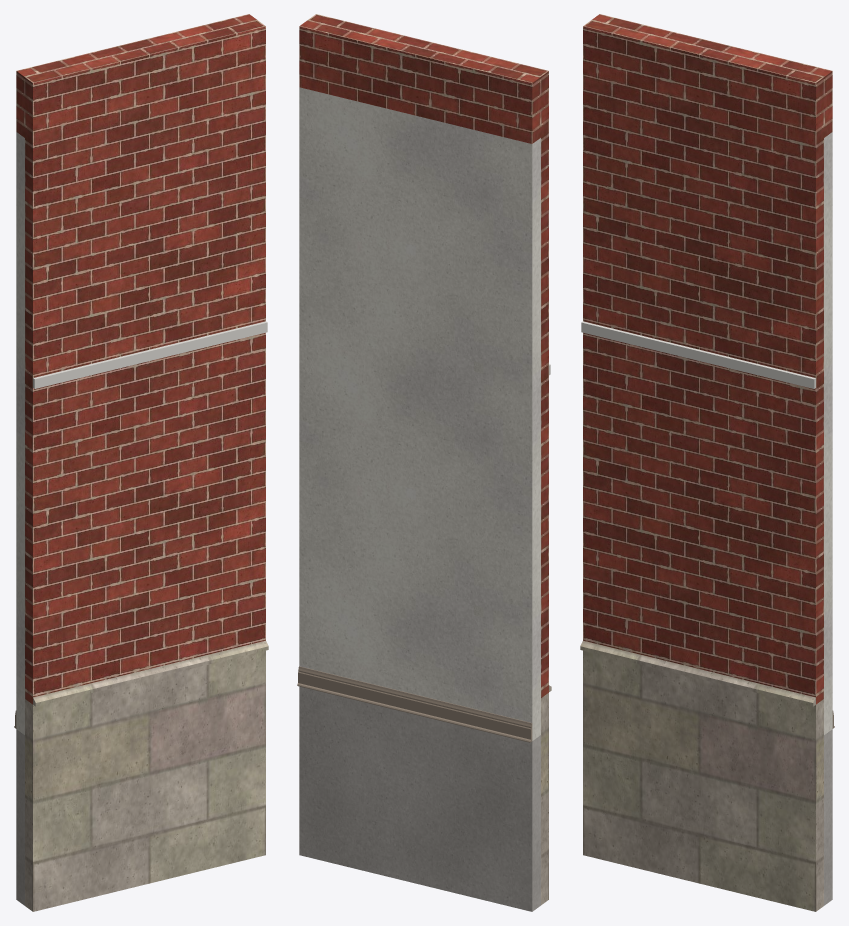
The model's file is b_plain.glb.
3 views of the same model, side by side, from view 1: azimuth 30°, elevation 25°; view 2: azimuth 150°, elevation 25°; view 3: azimuth 330°, elevation 25° (orthographic).
Visible parts, largest first — view 1: b_plain_brick, b_plain_stone, b_plain_plaster, b_plain_coping, b_plain_concrete; view 2: b_plain_plaster, b_plain_concrete, b_plain_brick, molduras, b_plain_stone; view 3: b_plain_brick, b_plain_stone, b_plain_plaster, b_plain_coping, b_plain_concrete.
Part boxes in pixels (x1,y1,x2,y2): b_plain_brick: (16,14,265,704); b_plain_stone: (25,640,268,911); b_plain_plaster: (16,132,24,734); b_plain_coping: (33,321,267,388); b_plain_concrete: (16,729,24,905); b_plain_plaster: (299,87,540,740); b_plain_concrete: (299,686,540,911); b_plain_brick: (299,14,548,697); molduras: (297,666,532,742); b_plain_stone: (541,685,551,905); b_plain_brick: (583,14,832,704); b_plain_stone: (580,640,823,911); b_plain_plaster: (824,132,832,734); b_plain_coping: (581,321,815,388); b_plain_concrete: (824,729,832,905).
Size of the model in its own units: 2 by 6.8 by 0.32.
Materials: 6 (4 with a texture image).
